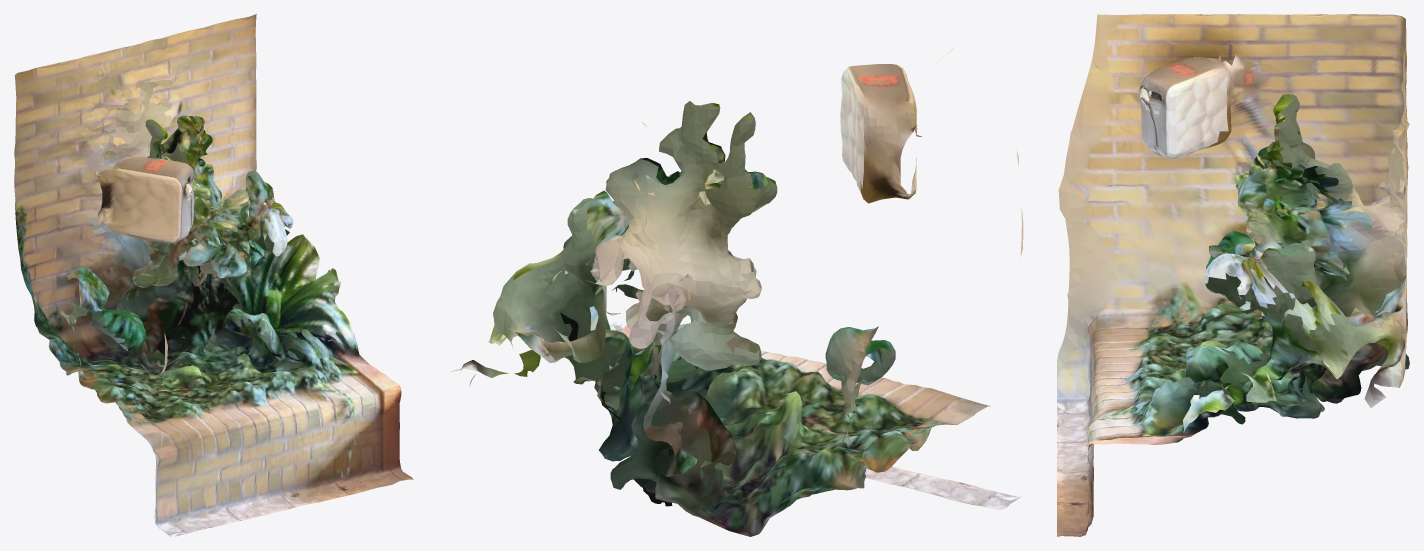
The model's file is S005_IndoorPlants.glb.
3 renders of one model, left to right at view 1: azimuth 30°, elevation 25°; view 2: azimuth 150°, elevation 25°; view 3: azimuth 270°, elevation 25°, orthographic. The views are drawn at different scales.
Visible parts, largest first — view 1: Object_4; view 2: Object_4; view 3: Object_4.
Part boxes in pixels (x1,y1,x2,y2): Object_4: [14, 14, 413, 536]; Object_4: [450, 48, 1023, 536]; Object_4: [1057, 14, 1409, 536].
Size of the model in its own units: 1.39 by 1.88 by 1.54.
Materials: 1 (1 with a texture image).
